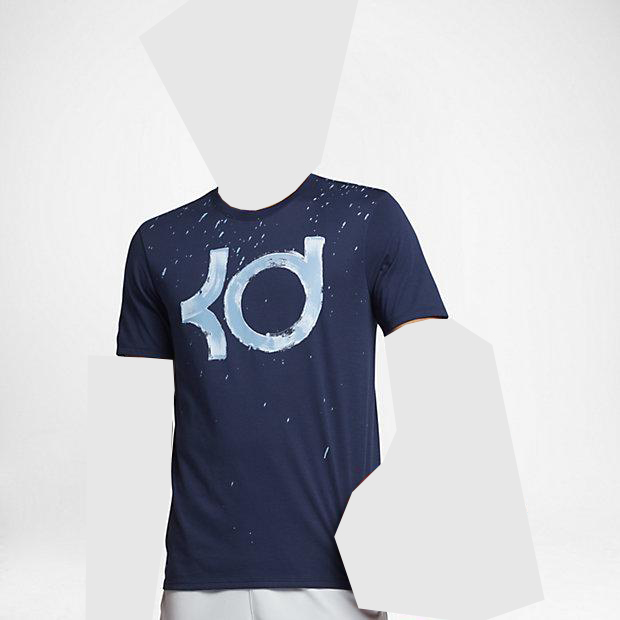teeshirt: (112, 174, 453, 596)
